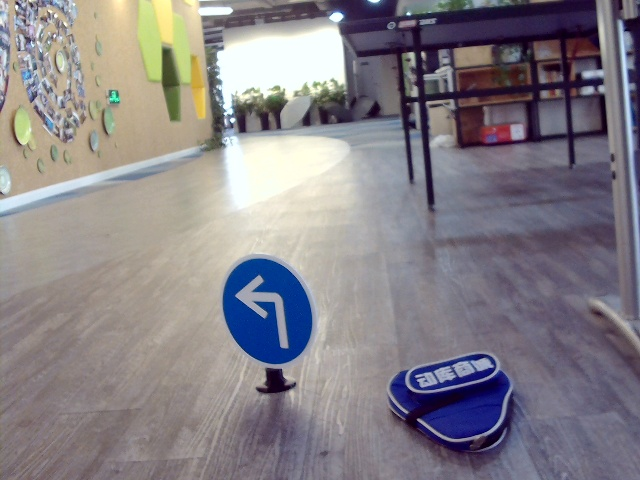turn_left: (234, 271, 298, 352)
